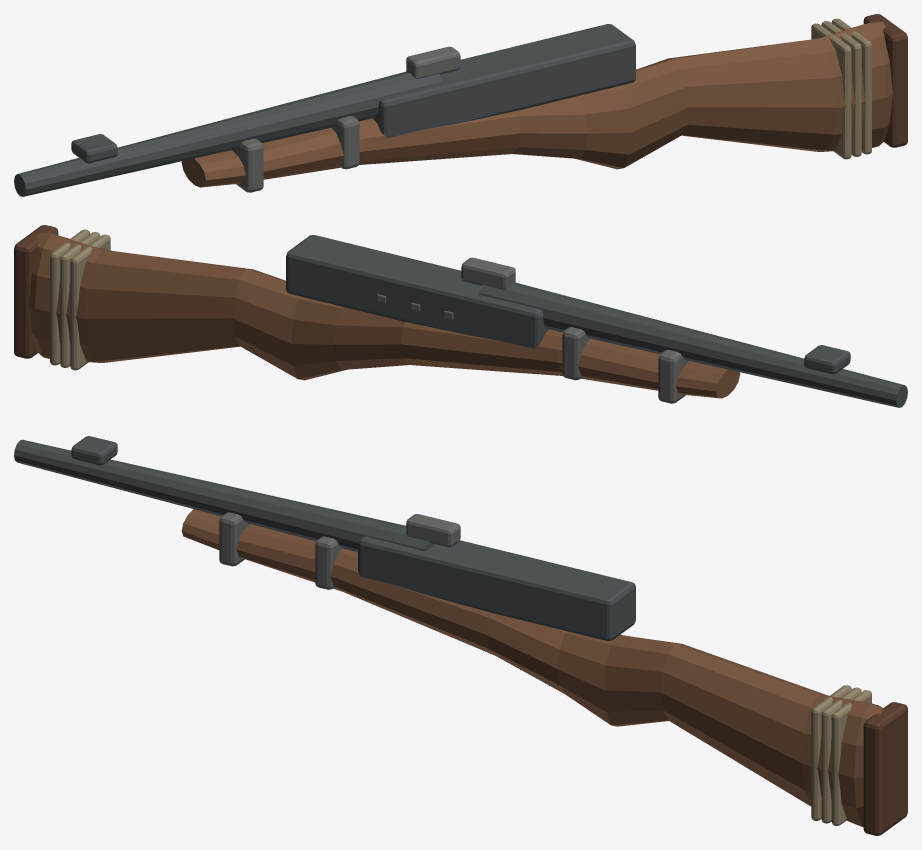
File: FieldRifle.fbx
3 renders of one model, top to bottom at view 1: azimuth 30°, elevation 25°; view 2: azimuth 150°, elevation 25°; view 3: azimuth 330°, elevation 25°, orthographic.
Visible parts, largest first — view 1: FieldRifle; view 2: FieldRifle; view 3: FieldRifle.
Part boxes in pixels (left/top/right/bottom): FieldRifle: left=14, top=14, right=907, bottom=196; FieldRifle: left=14, top=225, right=907, bottom=407; FieldRifle: left=14, top=436, right=907, bottom=835.
Bounding box in the file's own units: 1.03 × 0.2265 × 0.071.
